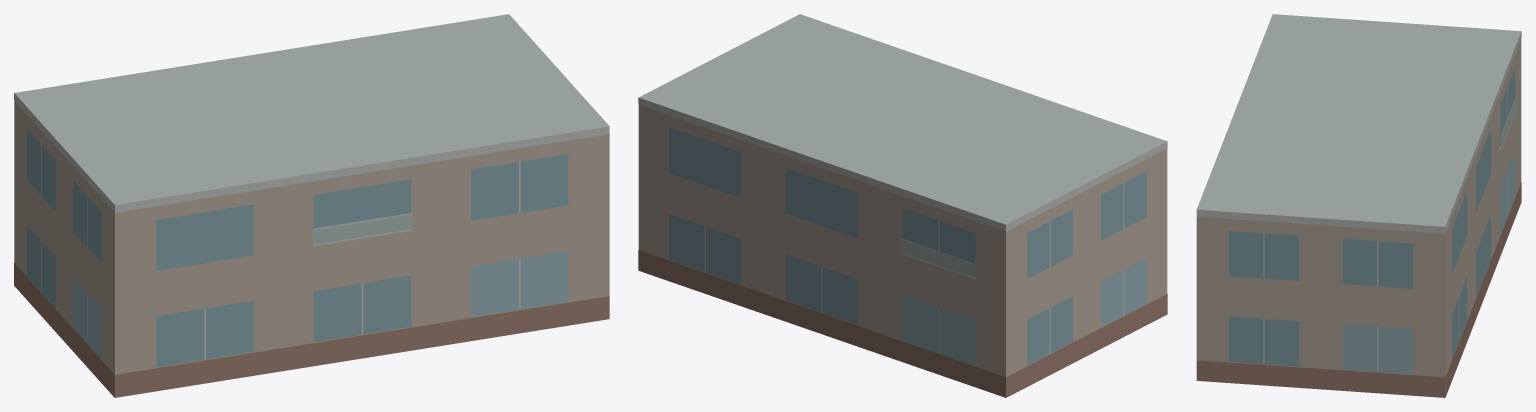
File: survey-upis-32922409.glb
3 views of the same model, side by side, from view 1: azimuth 30°, elevation 25°; view 2: azimuth 150°, elevation 25°; view 3: azimuth 270°, elevation 25° (orthographic). The views are drawn at different scales.
Visible parts, largest first — view 1: survey-upis-32922409.tmp; view 2: survey-upis-32922409.tmp; view 3: survey-upis-32922409.tmp.
Part boxes in pixels (bbox=[...]): survey-upis-32922409.tmp: bbox=[14, 14, 609, 397]; survey-upis-32922409.tmp: bbox=[638, 14, 1167, 397]; survey-upis-32922409.tmp: bbox=[1196, 14, 1521, 397].
Size of the model in its own units: 16.29 by 6.1 by 10.51.
